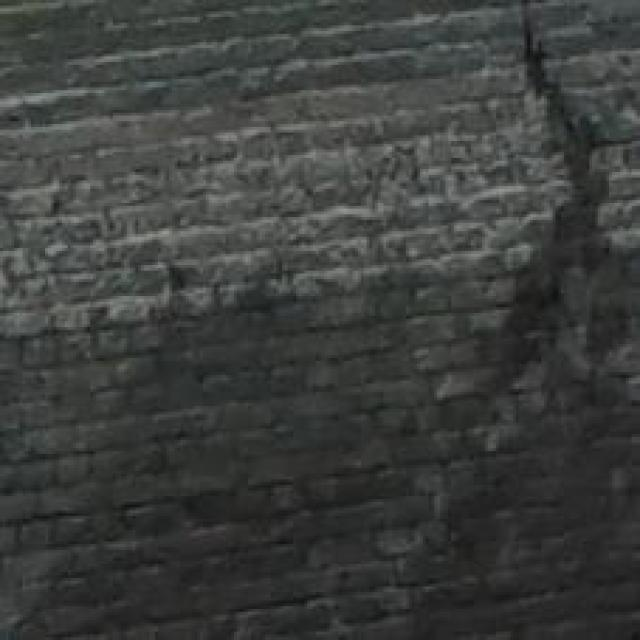Crack: (465, 0, 640, 398)
